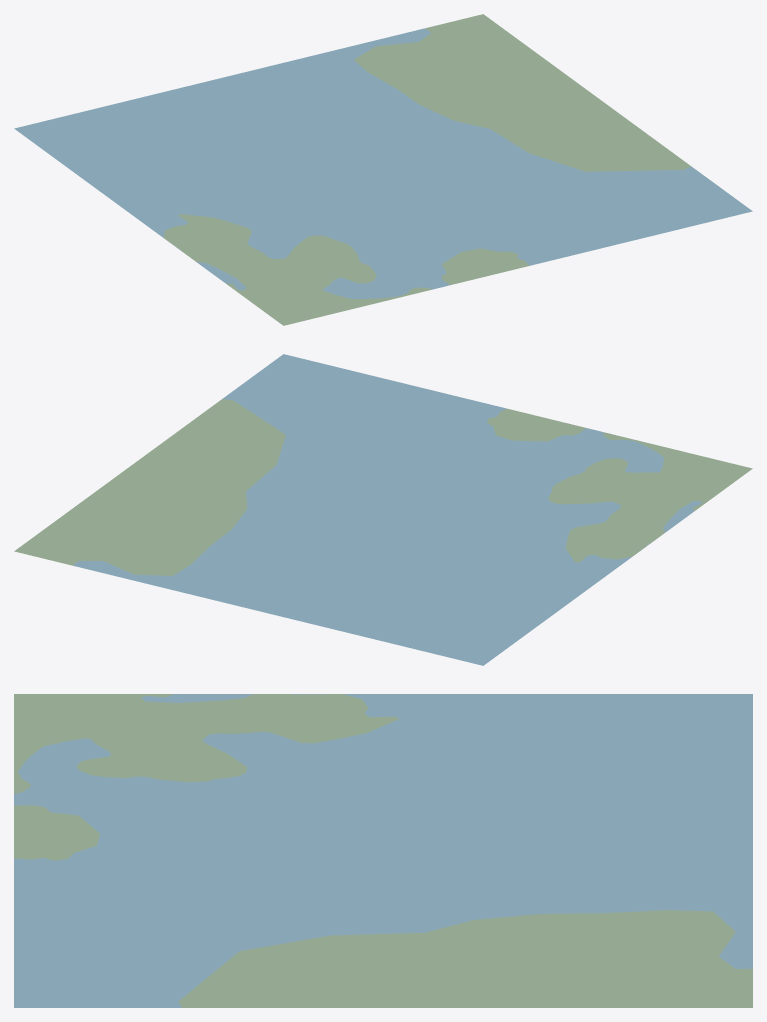
Rendered from -15_9-known-coarse.glb.
3 views of the same model, one above another, from view 1: azimuth 30°, elevation 25°; view 2: azimuth 150°, elevation 25°; view 3: azimuth 270°, elevation 25° (orthographic). The views are drawn at different scales.
Bounding box in the file's own units: 1000 × 0 × 995.
